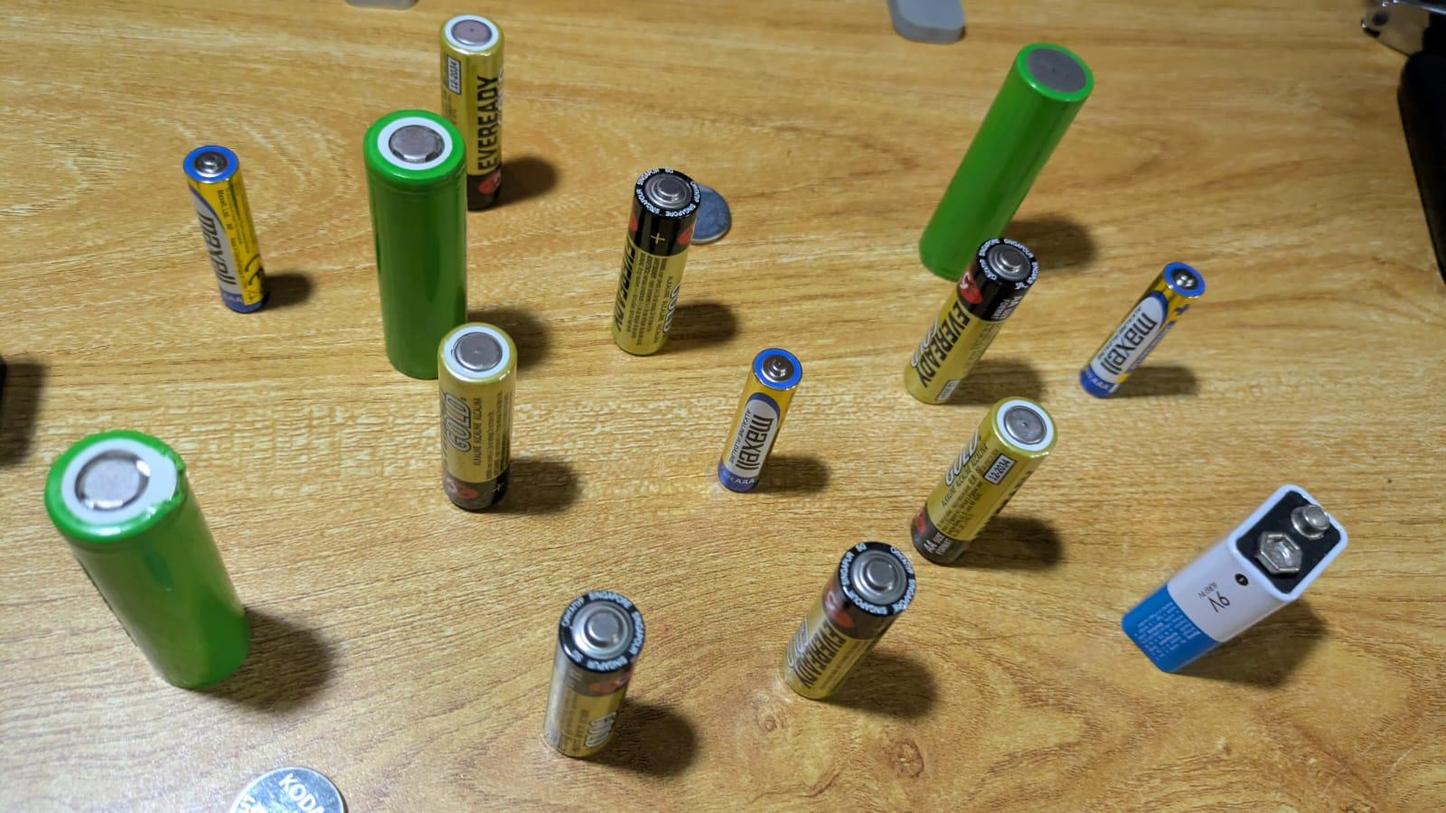9V: (1113, 476, 1355, 682)
AA: (908, 390, 1061, 576), (777, 533, 922, 720), (893, 232, 1047, 404), (542, 585, 652, 769), (610, 162, 703, 362), (432, 318, 523, 519), (437, 8, 515, 212)
AAA: (1079, 255, 1208, 404), (175, 142, 281, 319), (717, 338, 806, 506)
COIN: (225, 759, 354, 813), (693, 181, 740, 250)
